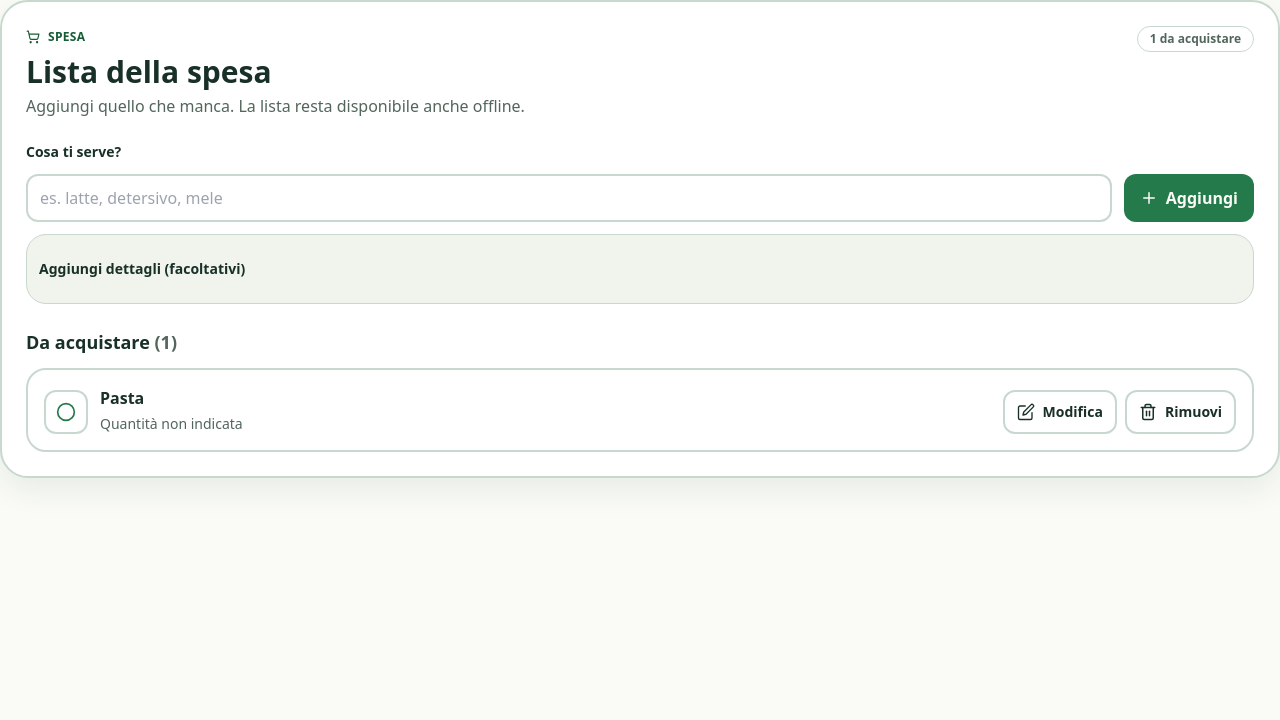
it: ShoppingListPanel › ShoppingListPanel — editor dettagli aperto al click su "Modifica" › non salva e mostra l'errore di validazione quando il nome è vuoto
Click the button with aria-label "Modifica Pasta": (1060, 412) [1003,390,1117,434]
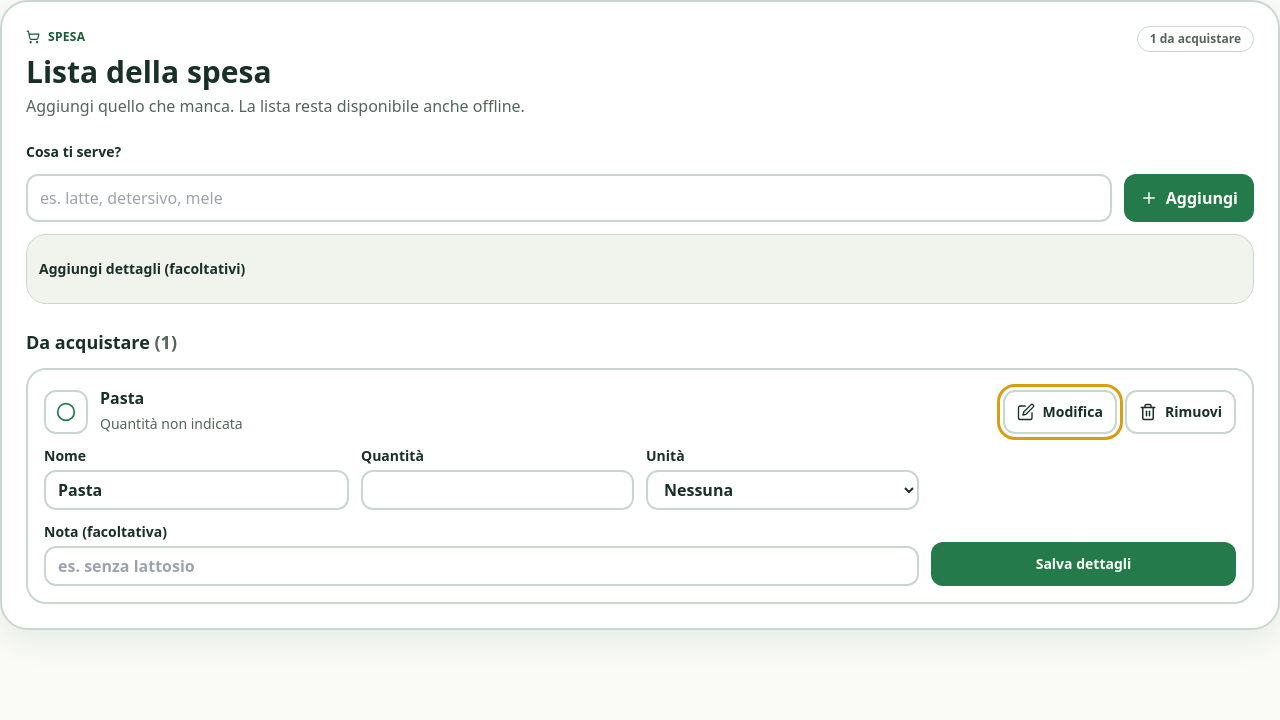
Clear the field labelled "Nome": (196, 490) [44,470,349,510]
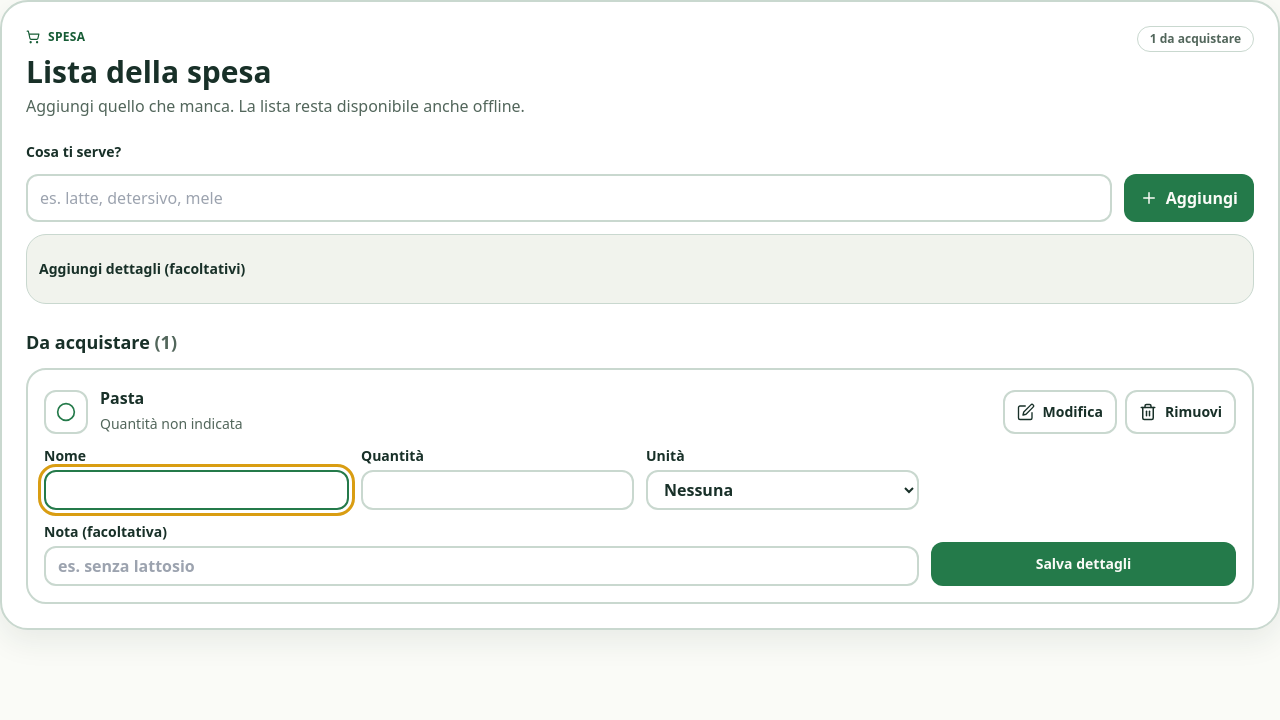
Click the button "Salva dettagli": (1084, 564) [931,542,1236,586]
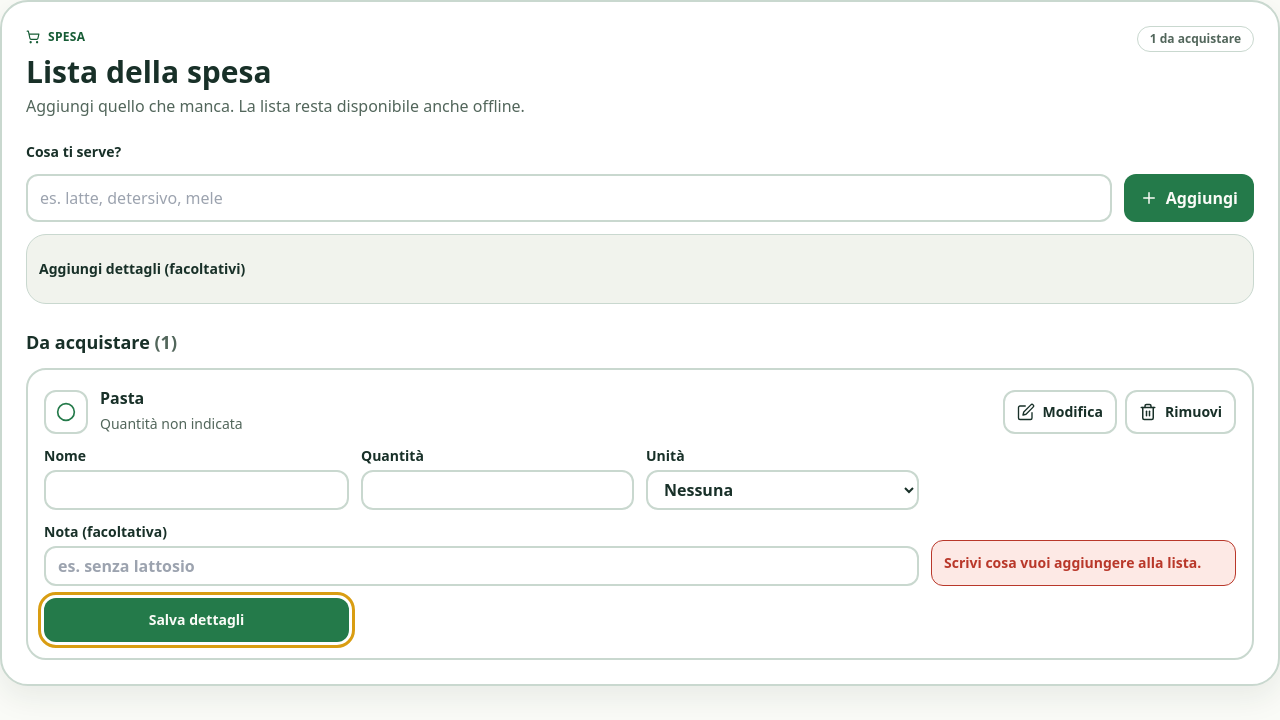
Expected: the message reads "Scrivi cosa vuoi aggiungere alla lista.", [944,553,1201,572]
